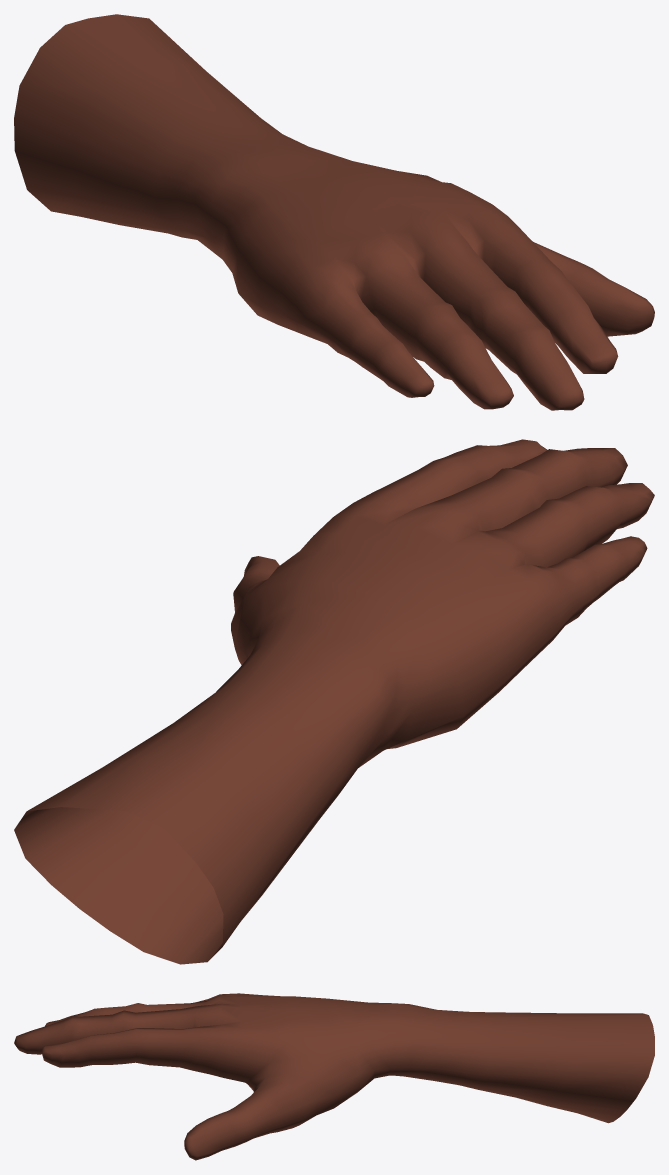
Rendered from 1_1_HandSmoothRightBack.obj.
3 renders of one model, top to bottom at view 1: azimuth 30°, elevation 25°; view 2: azimuth 150°, elevation 25°; view 3: azimuth 270°, elevation 25°, orthographic. The views are drawn at different scales.
Parts seen in each view (by area): view 1: hand_femme_polySurface1.002; view 2: hand_femme_polySurface1.002; view 3: hand_femme_polySurface1.002.
Part boxes in pixels (x1,y1,x2,y2): hand_femme_polySurface1.002: (14, 14, 654, 410); hand_femme_polySurface1.002: (14, 439, 654, 964); hand_femme_polySurface1.002: (14, 993, 654, 1160).
Bounding box in the file's own units: 0.0733 × 0.042 × 0.1908.
